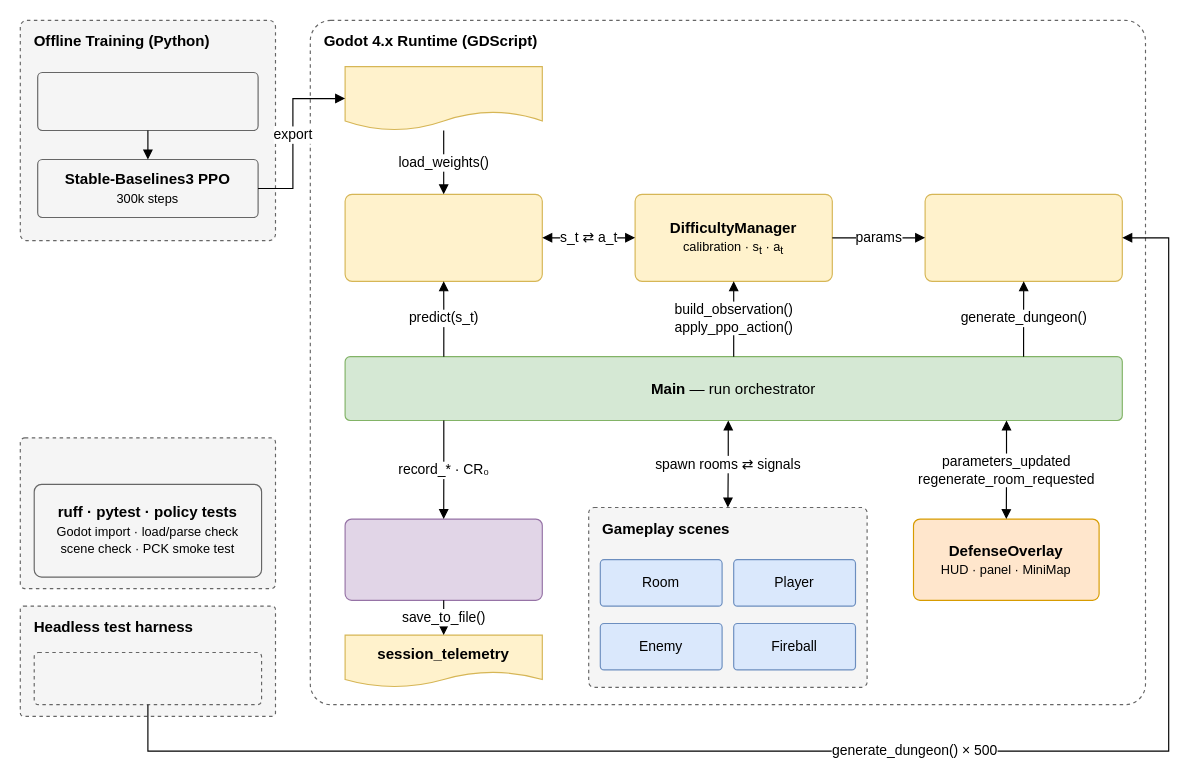
This 1198x781 diagram has some shape labels left out. The shapes that lost their labels are listed below. From the top down, each one's box as (x1, y1, x2, y2) in pixels, then its label:
(37, 71, 258, 130): DungeonDifficultyEnv Gymnasium
(344, 66, 542, 130): policy_weights ≈111 KB
(344, 193, 542, 281): PPOPolicy MLP 8→64→64→7 · tanh + heuristic fallback
(924, 193, 1122, 281): DungeonGenerator random walk · room roles
(19, 437, 276, 589): GitHub Actions CI
(344, 518, 542, 600): TelemetryLogger record_* · CR 0
(33, 651, 262, 705): ci_solvability_runner 500 seeds · BFS · run via CLI
